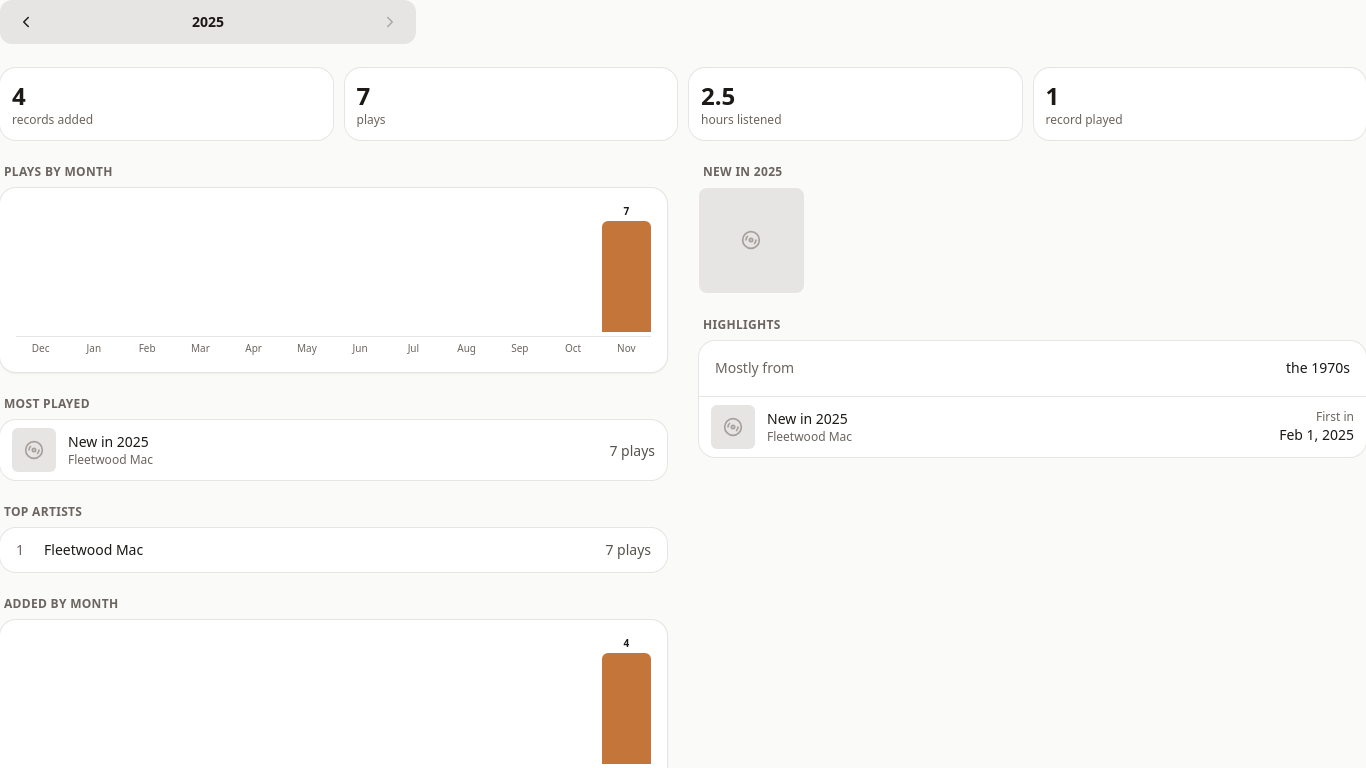
YearView › starts on the newest year and steps back through the others
The image size is (1366, 768).
Click the button named "Earlier year" at (26, 22), box [4,4,48,40]
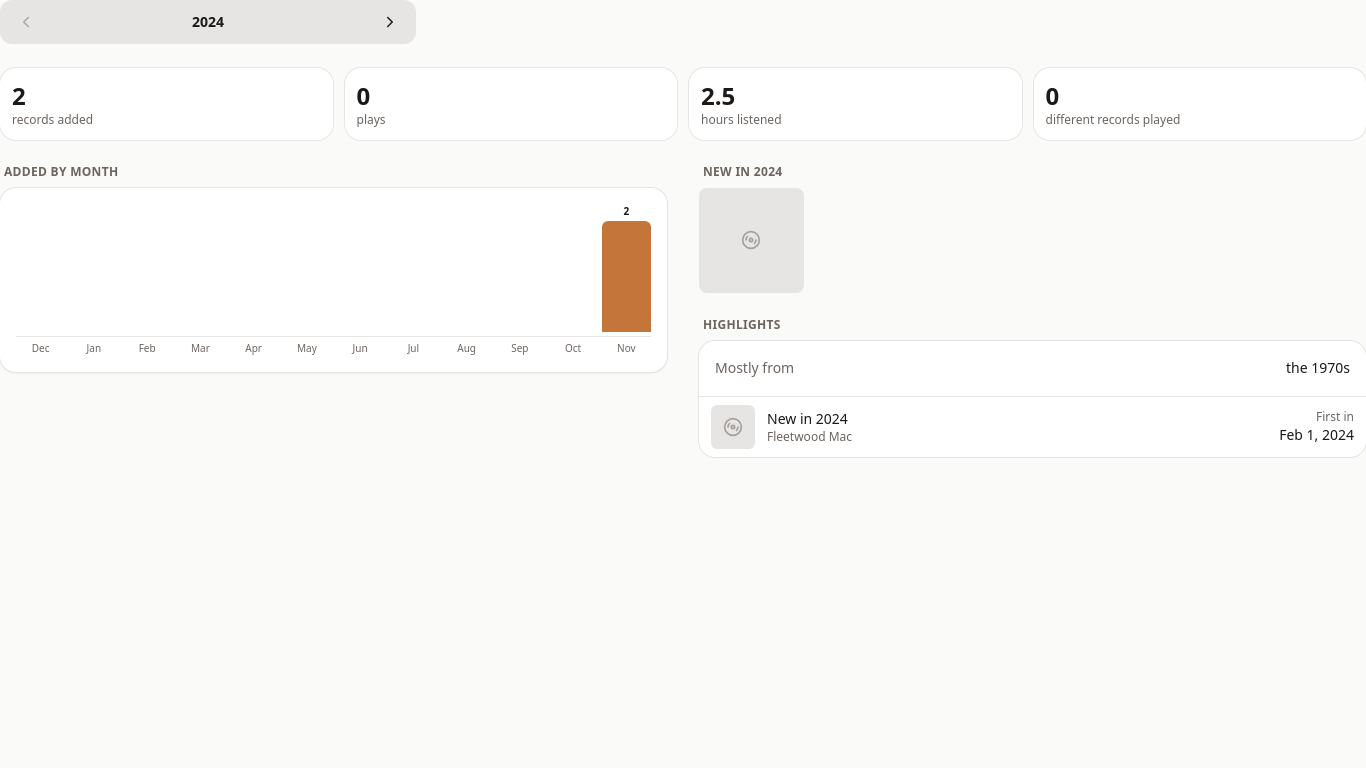
Expected: the text "2024" is shown, [192,12,224,32]
Expected: the text "Top artists" is gone
